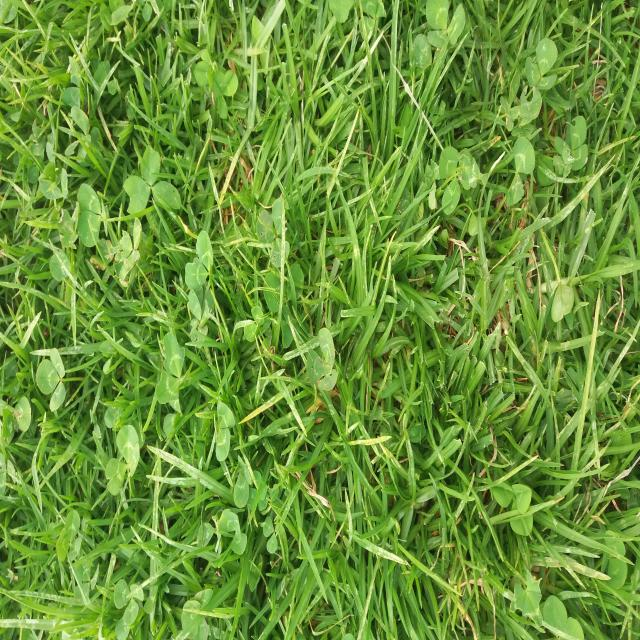Four Leaf Clover: (188, 289, 209, 348)
